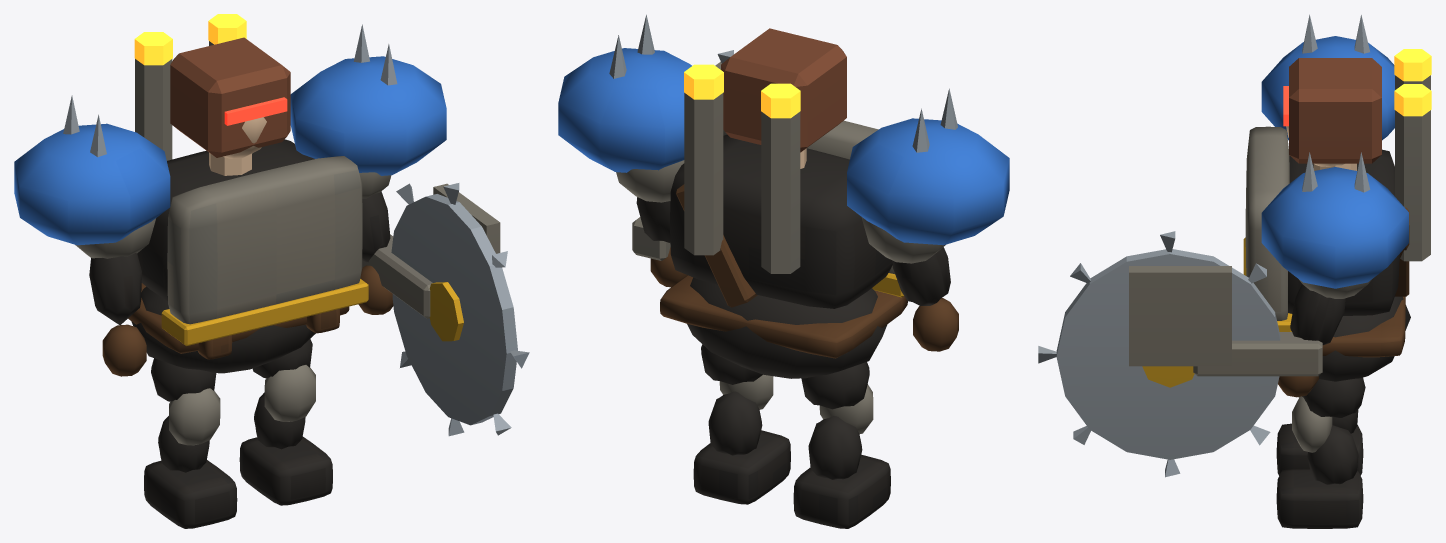
File: legionnaire.glb
The picture shows the model from 3 angles, left to right: view 1: azimuth 30°, elevation 25°; view 2: azimuth 150°, elevation 25°; view 3: azimuth 270°, elevation 25°; orthographic projection. The views are drawn at different scales.
Parts seen in each view (by area): view 1: legionnaire, leg_l, leg_r, arm_l, arm_r; view 2: legionnaire, leg_l, leg_r, arm_l, arm_r; view 3: legionnaire, leg_r, arm_r, leg_l.
Boxes of the visible parts, x1,y1,x2,y2 form: legionnaire: (14, 14, 529, 436); leg_l: (144, 358, 237, 528); leg_r: (239, 339, 332, 505); arm_l: (75, 218, 155, 376); arm_r: (358, 172, 393, 314); legionnaire: (558, 14, 1009, 378); leg_l: (793, 362, 890, 528); leg_r: (693, 344, 790, 504); arm_l: (861, 217, 958, 351); arm_r: (616, 160, 687, 287); legionnaire: (1038, 14, 1431, 477); leg_r: (1276, 377, 1365, 528); arm_r: (1278, 279, 1371, 397); leg_l: (1276, 397, 1363, 475).
Size of the model in its own units: 0.9138 by 0.9041 by 0.761.
